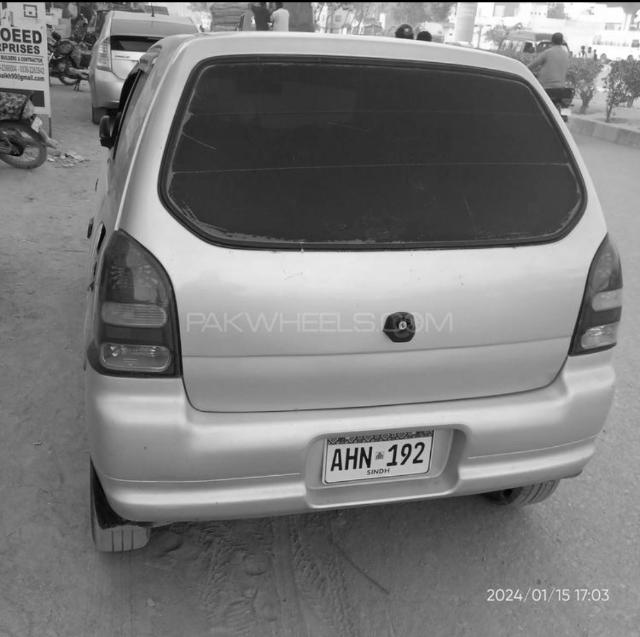Number: (325, 436, 429, 473)
